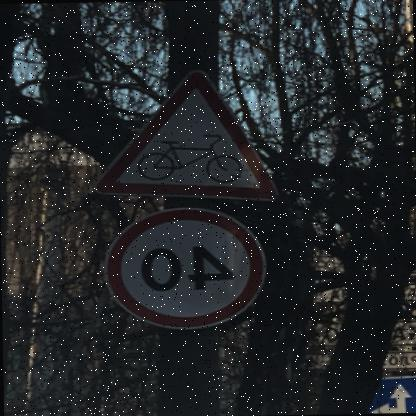speedlimit: (107, 205, 268, 328)
